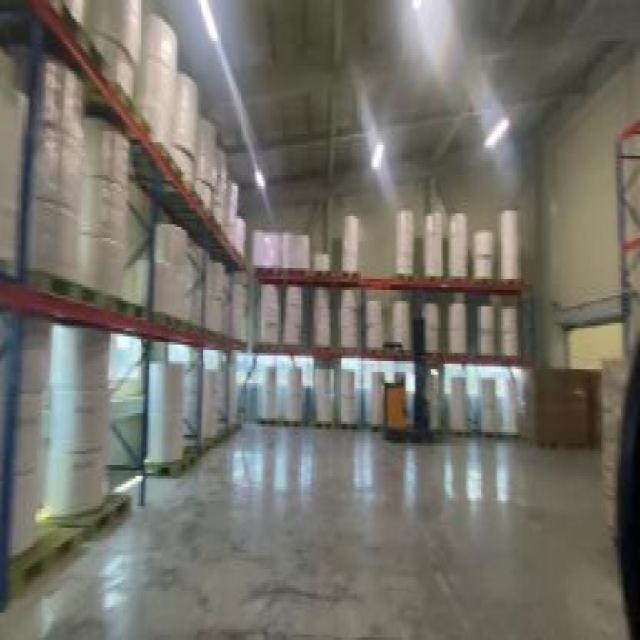box: (591, 361, 638, 553), (530, 364, 602, 459)
robot: (384, 317, 458, 443)
white_roll: (0, 57, 126, 296), (1, 309, 62, 580), (48, 323, 120, 528), (152, 213, 246, 334), (92, 0, 172, 142), (397, 213, 521, 279), (414, 293, 520, 358), (174, 58, 218, 214), (143, 358, 188, 479), (208, 137, 249, 260), (254, 219, 354, 268), (188, 353, 238, 440), (472, 374, 522, 438), (314, 364, 361, 429), (255, 279, 300, 345), (423, 372, 471, 432), (262, 361, 302, 424), (366, 295, 411, 350), (320, 290, 360, 350), (368, 372, 384, 427)
